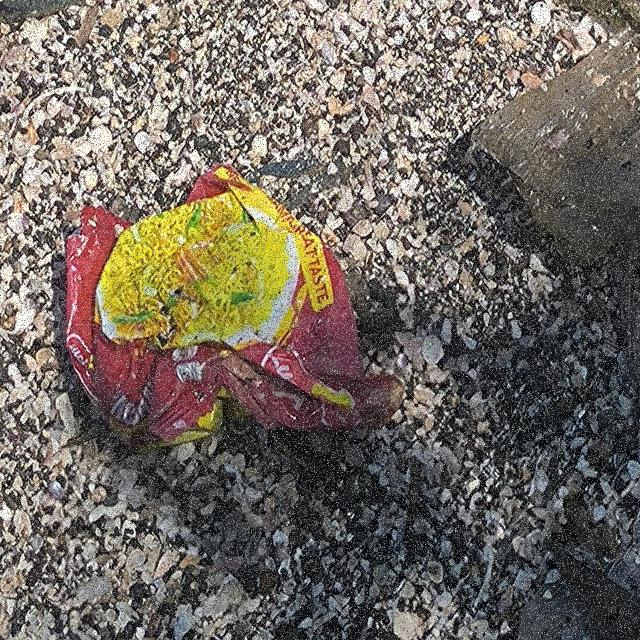plastic_waste: (64, 161, 408, 457)
wood_waste: (468, 26, 640, 271)
